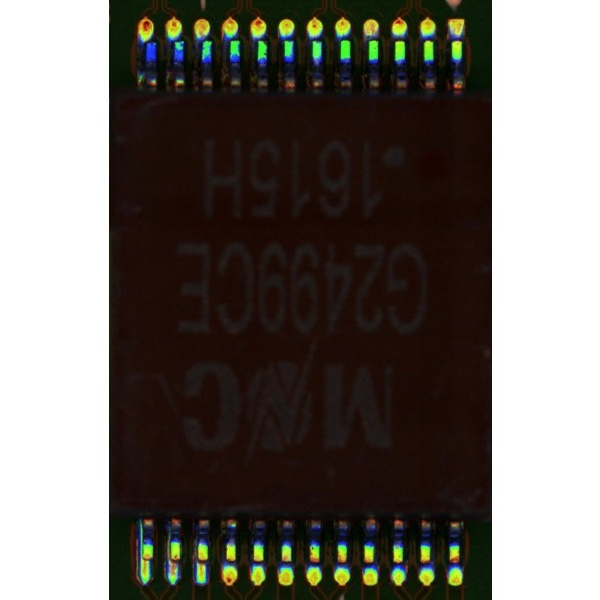Bad_podu: (198, 552, 204, 575), (142, 551, 148, 571)
Bad_qiaojiao: (138, 519, 142, 561), (170, 552, 177, 573), (165, 530, 169, 560)
